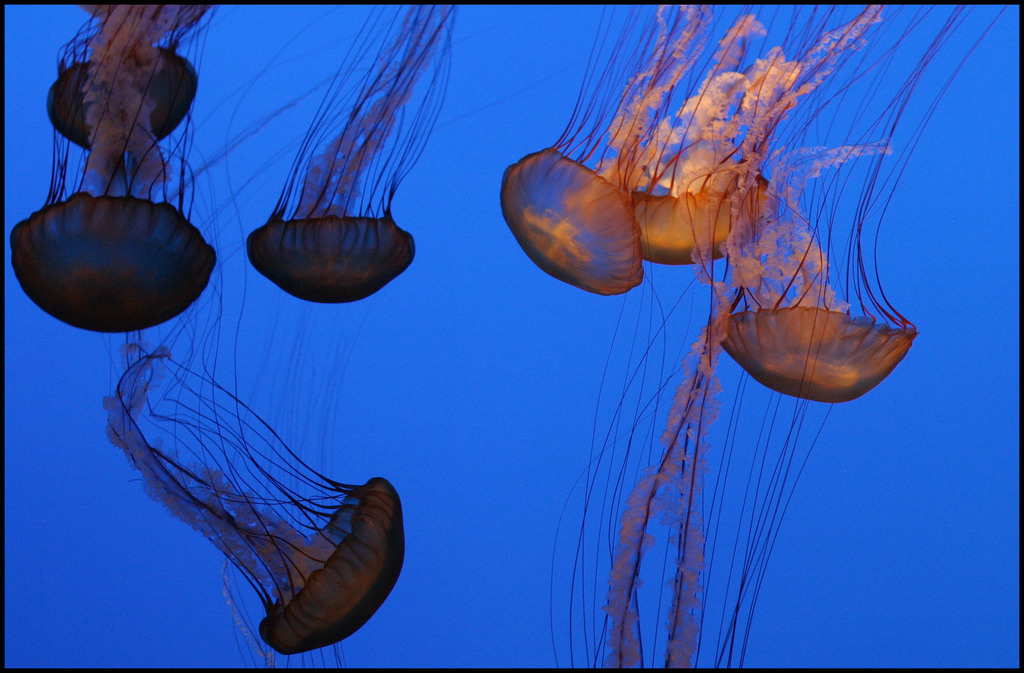Jellyfish: (498, 0, 1009, 672), (99, 332, 412, 656), (10, 0, 220, 336), (241, 0, 460, 299), (41, 1, 212, 160)
